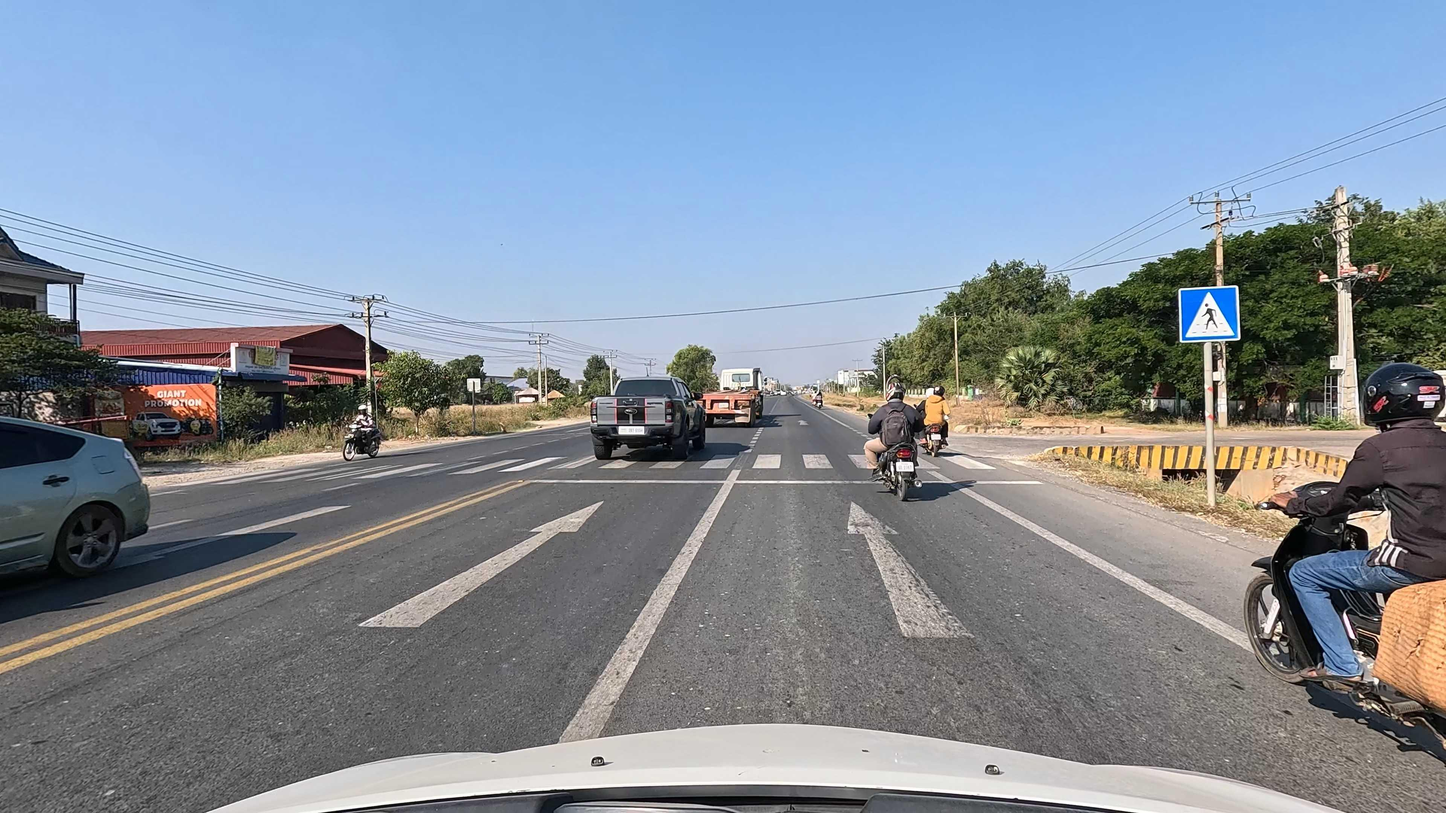pedestrian_crossing: (1178, 285, 1242, 344)
